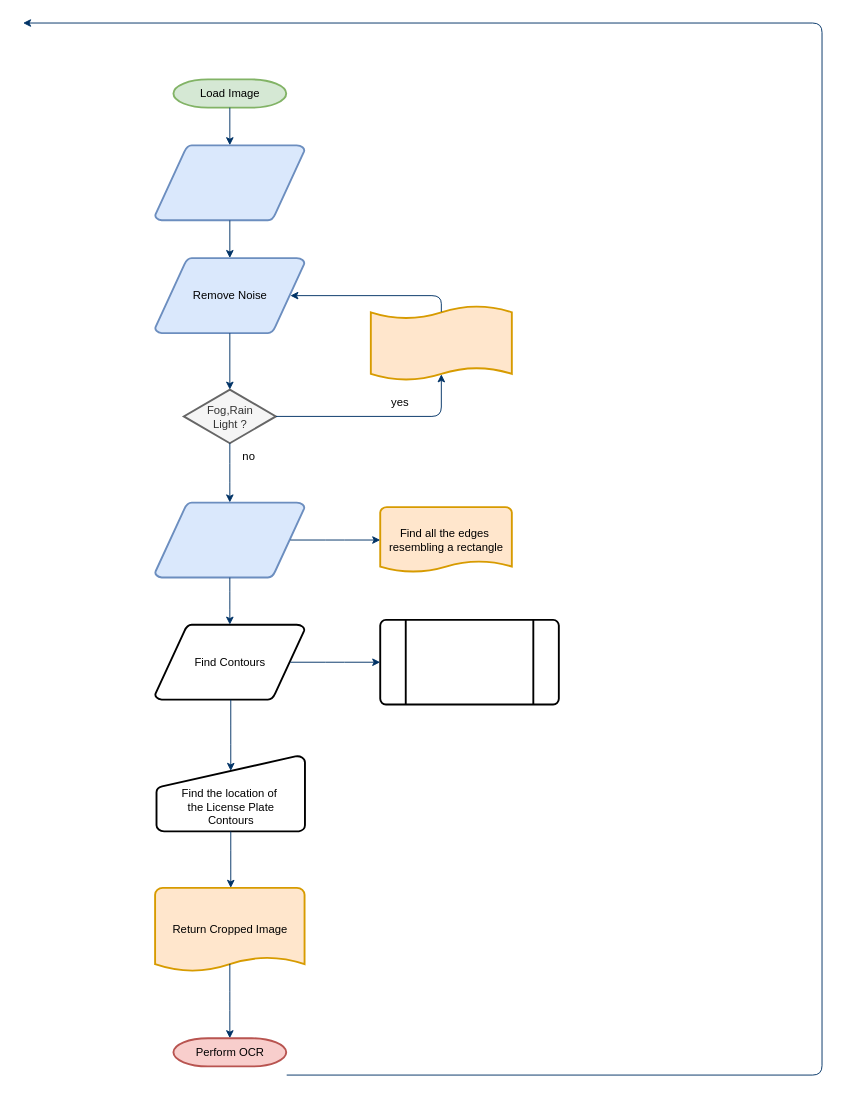
This 846x1100 diagram has some shape labels left out. Here are the shapes that lost their labels. From the top down, the centre of each, then its label:
(229,182): Grayscale Image
(440,343): Remove the noise using morphological techniques
(229,539): Perform Canny Edge Detection
(469,662): Using OpenCV
